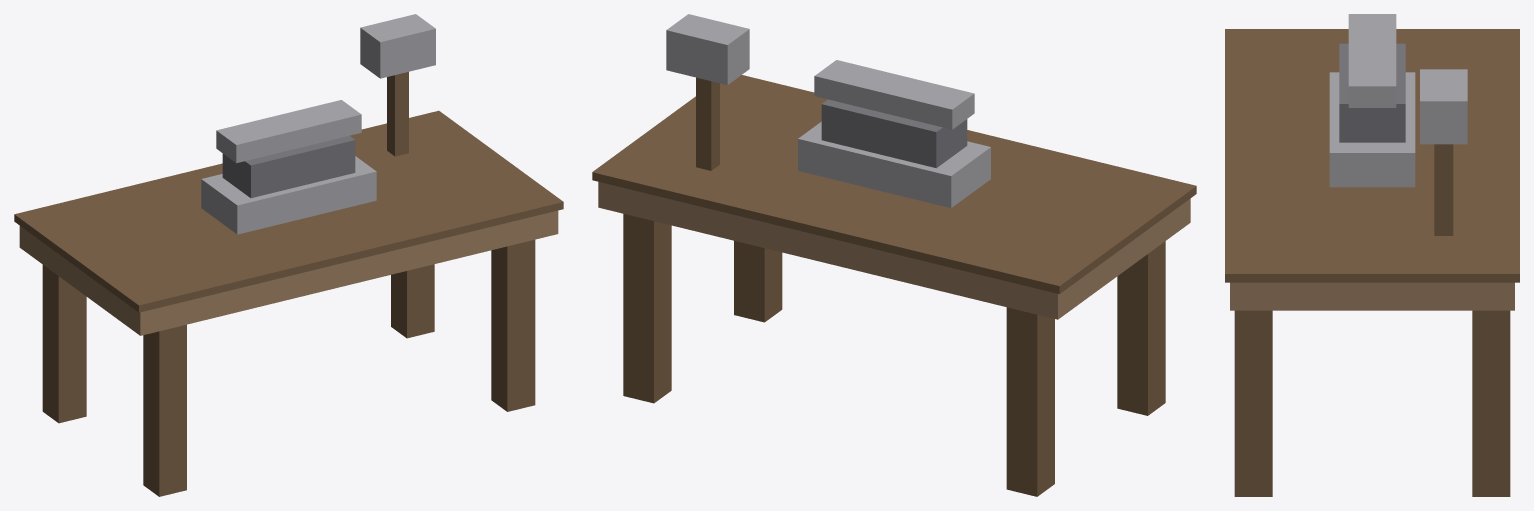
The model's file is workbench.glb.
3 renders of one model, left to right at view 1: azimuth 30°, elevation 25°; view 2: azimuth 150°, elevation 25°; view 3: azimuth 270°, elevation 25°, orthographic. The views are drawn at different scales.
Visible parts, largest first — view 1: workbench; view 2: workbench; view 3: workbench.
Boxes of the visible parts, x1,y1,x2,y2 form: workbench: [14, 14, 563, 496]; workbench: [592, 14, 1196, 496]; workbench: [1225, 14, 1519, 496].
Bounding box in the file's own units: 1.22 × 0.89 × 0.62.
